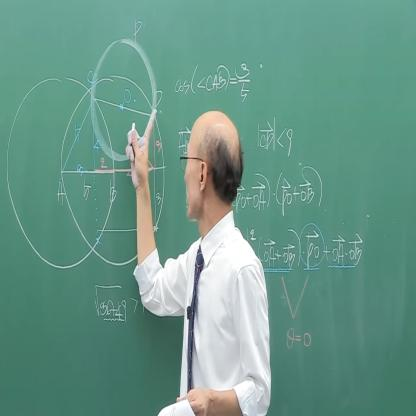streamer: (126, 106, 270, 416)
